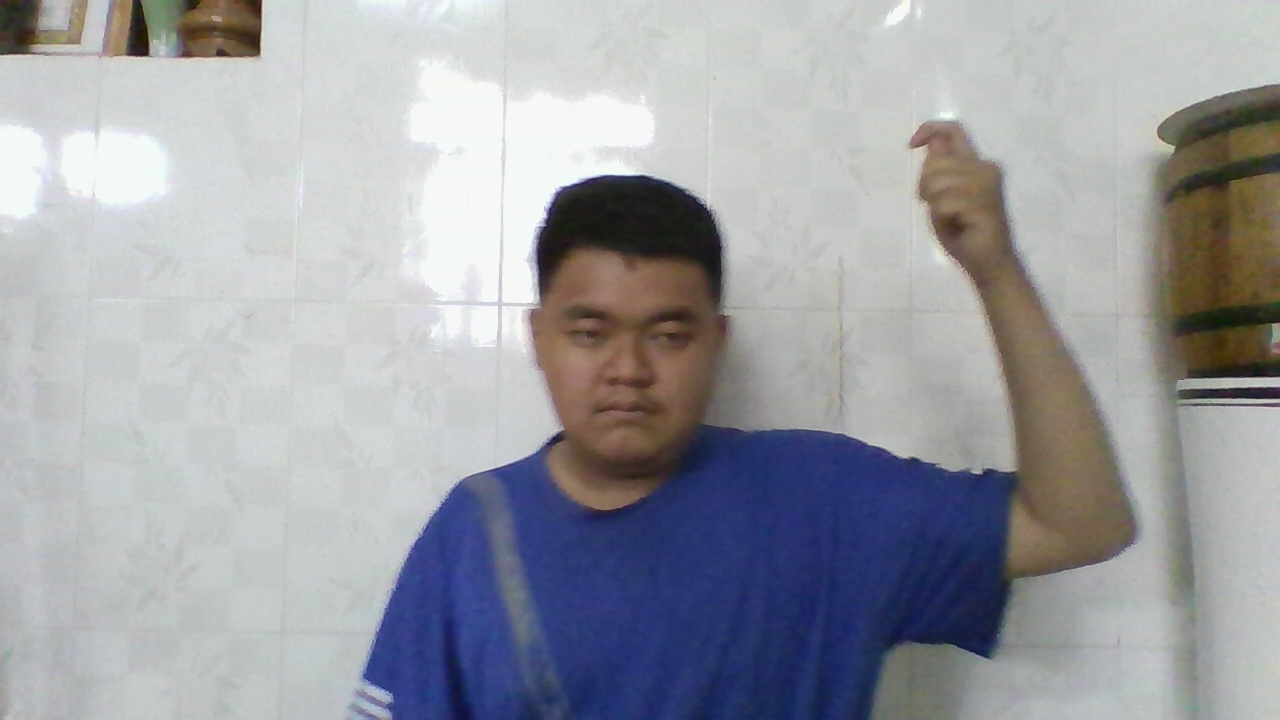X: (895, 113, 1008, 284)
